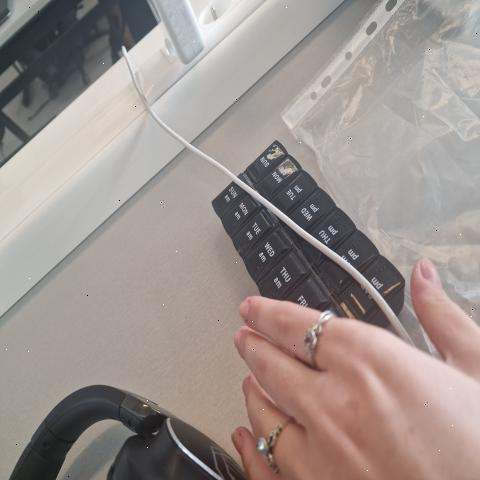Hands: (187, 253, 480, 480)
PillBox: (186, 96, 420, 330)
